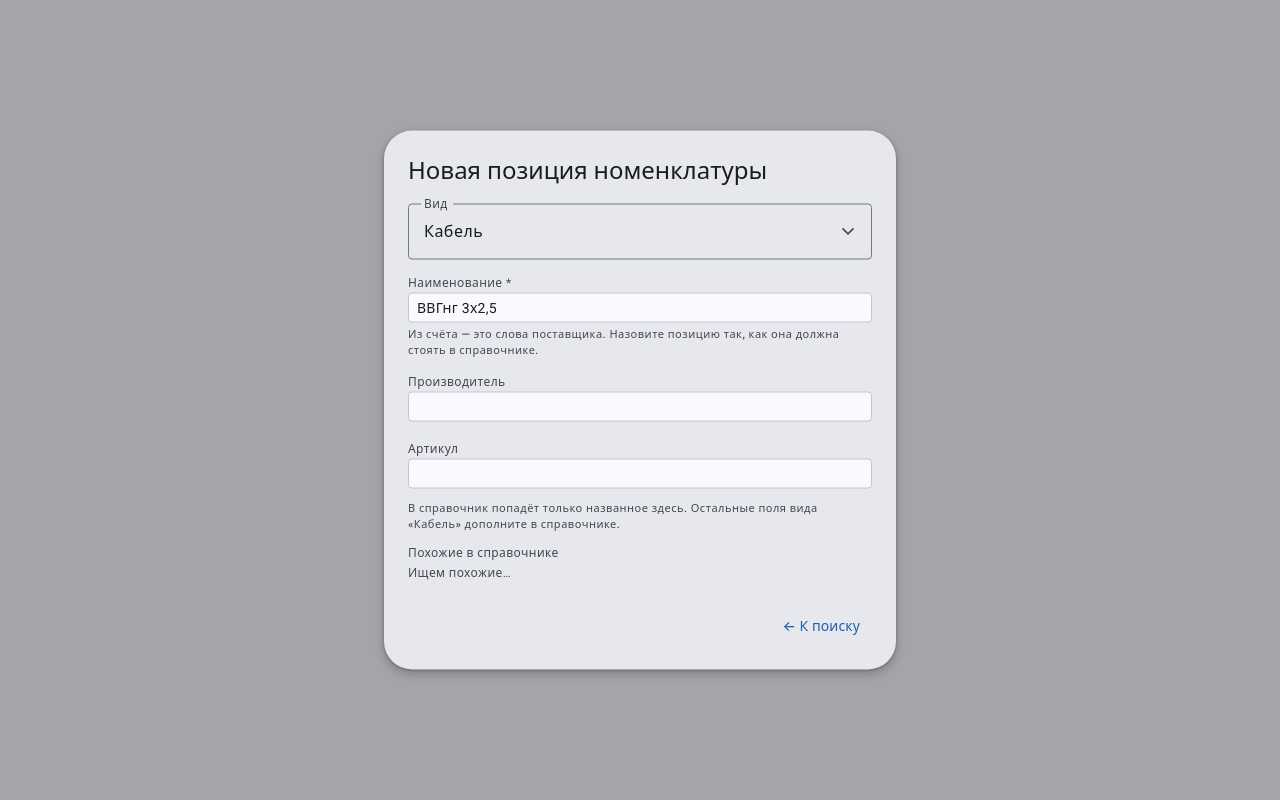
Test case: шаг «Новая позиция»: подсказка по введённому ранее › производитель — из справочника уровня «вся система»; подстановка запускает поиск похожих
The width and height of the screenshot is (1280, 800).
Type "Кам" into the dropdown labelled "Производитель" at (640, 406), box [408,392,872,422]
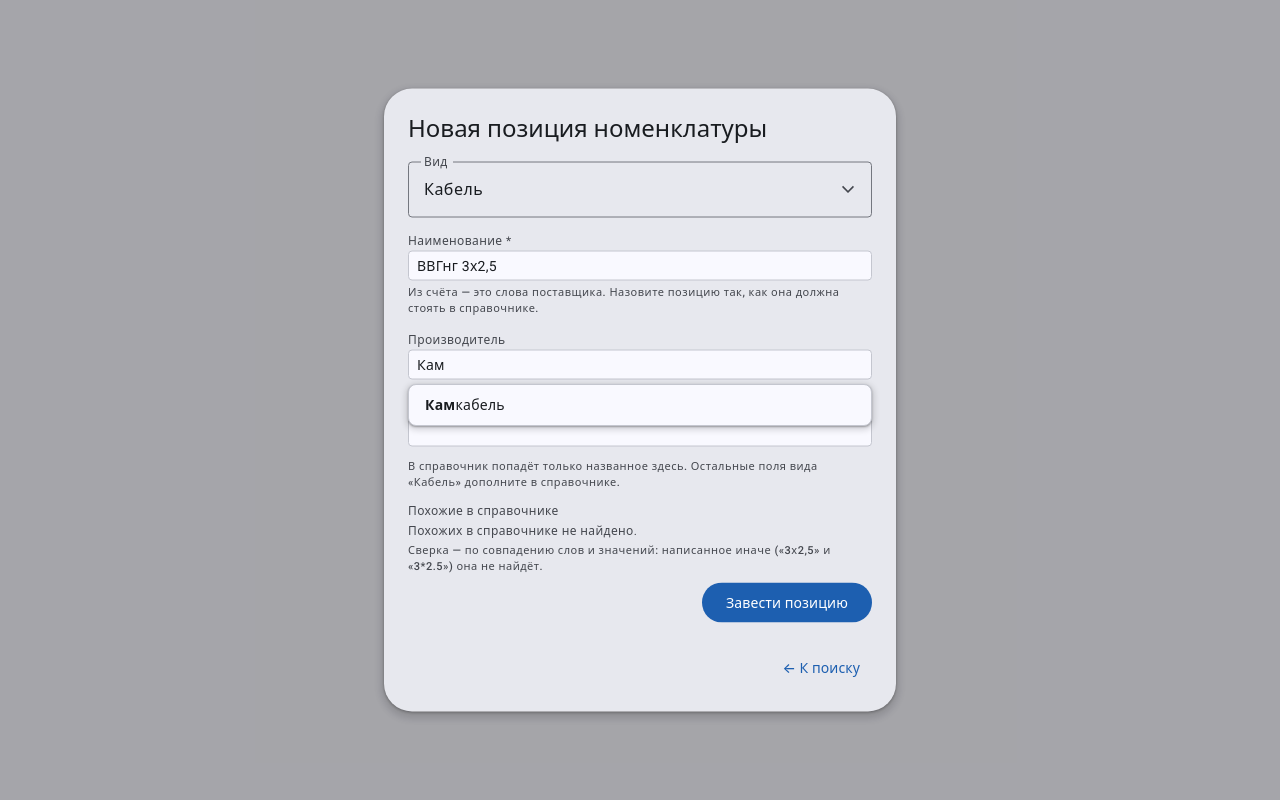
Now the dropdown labelled "Производитель" is expanded
Press ArrowDown in the dropdown labelled "Производитель", box [408,350,872,380]
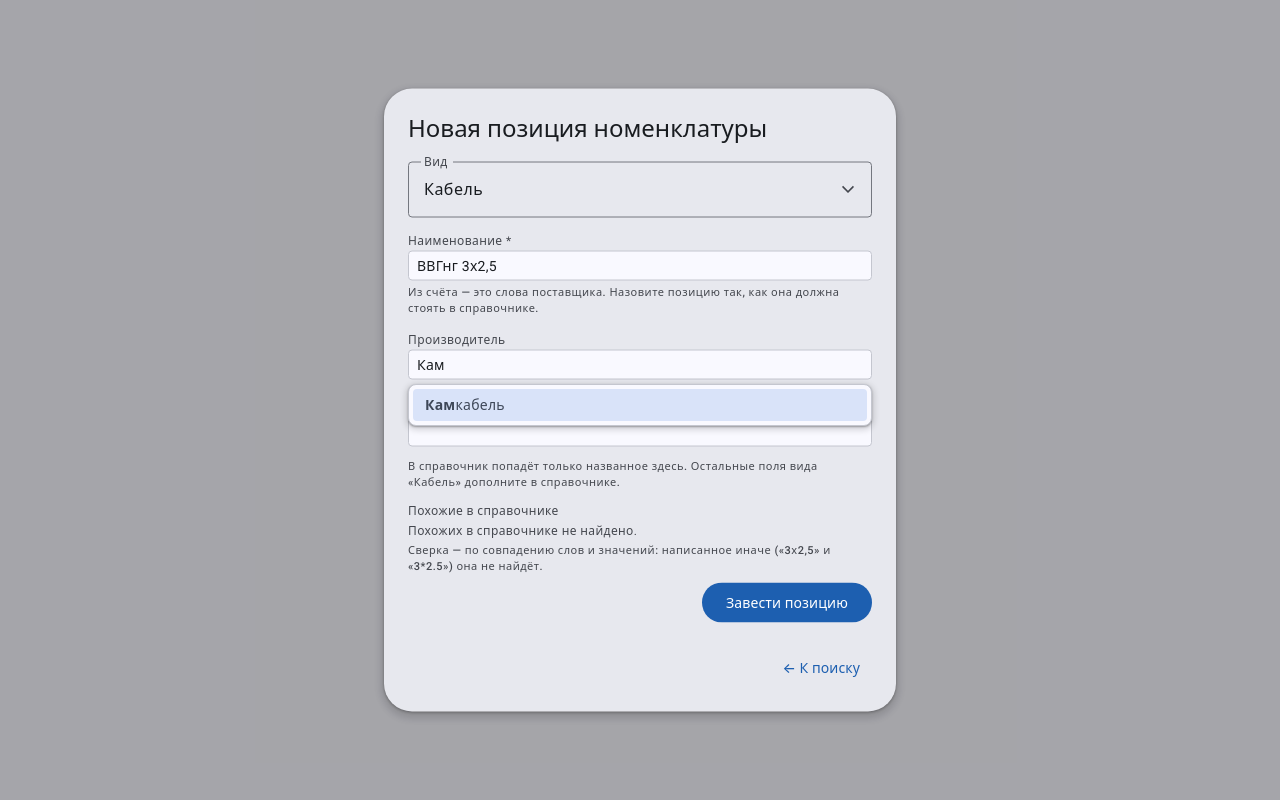
Press Enter in the dropdown labelled "Производитель", box [408,350,872,380]
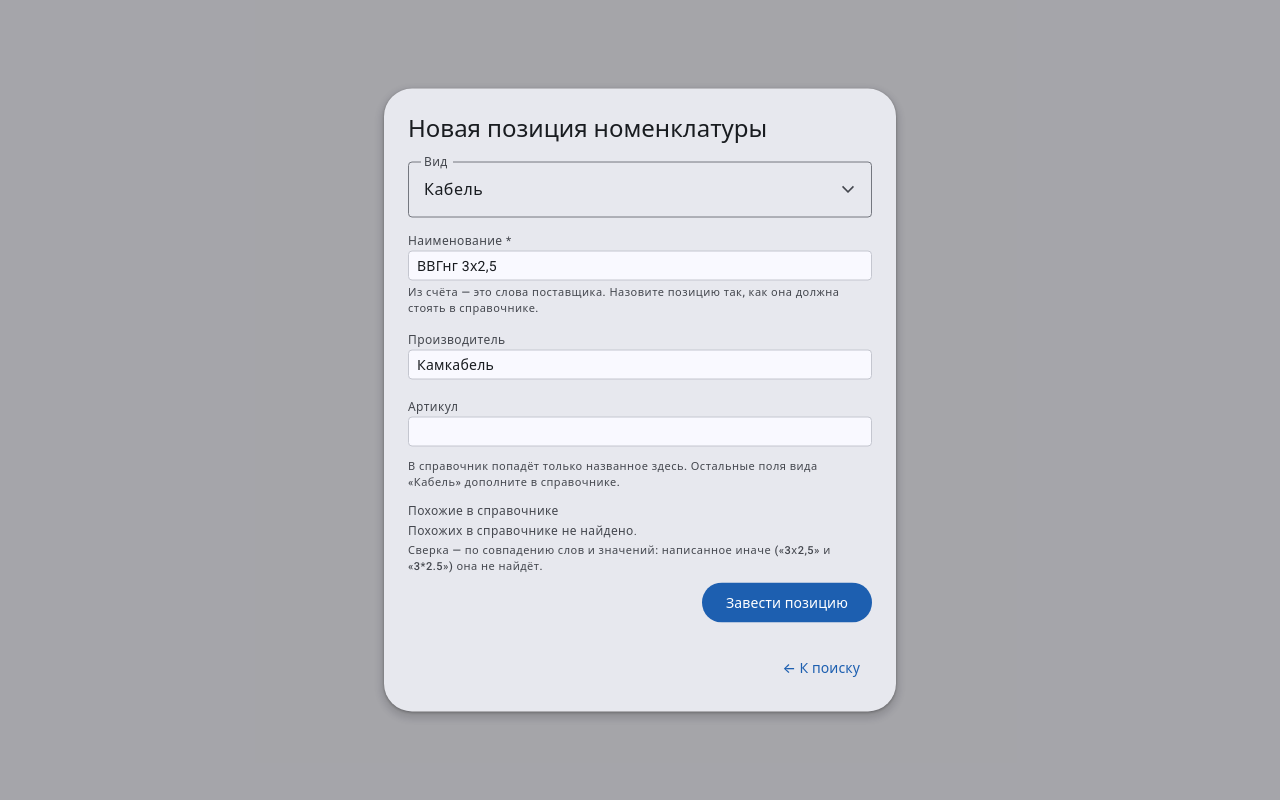
Now the dropdown labelled "Производитель" holds "Камкабель", box [408,350,872,380]
